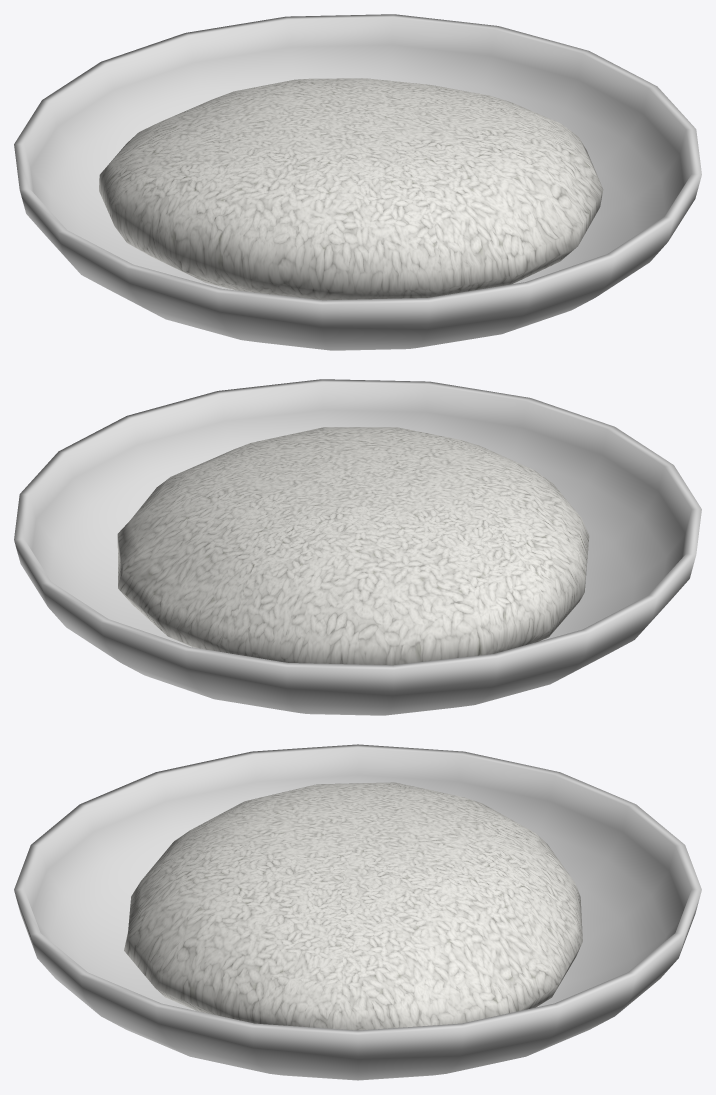
The model's file is Reis_Cube.fbx.
3 renders of one model, top to bottom at view 1: azimuth 30°, elevation 25°; view 2: azimuth 150°, elevation 25°; view 3: azimuth 270°, elevation 25°, orthographic.
Visible parts, largest first — view 1: Bowl, Reis; view 2: Reis, Bowl; view 3: Reis, Bowl.
Boxes of the visible parts, x1,y1,x2,y2 form: Bowl: [14, 14, 701, 350]; Reis: [99, 78, 603, 300]; Reis: [117, 427, 589, 665]; Bowl: [14, 379, 701, 715]; Reis: [124, 782, 582, 1030]; Bowl: [14, 744, 701, 1080].
Size of the model in its own units: 20.72 by 5.01 by 20.72.
